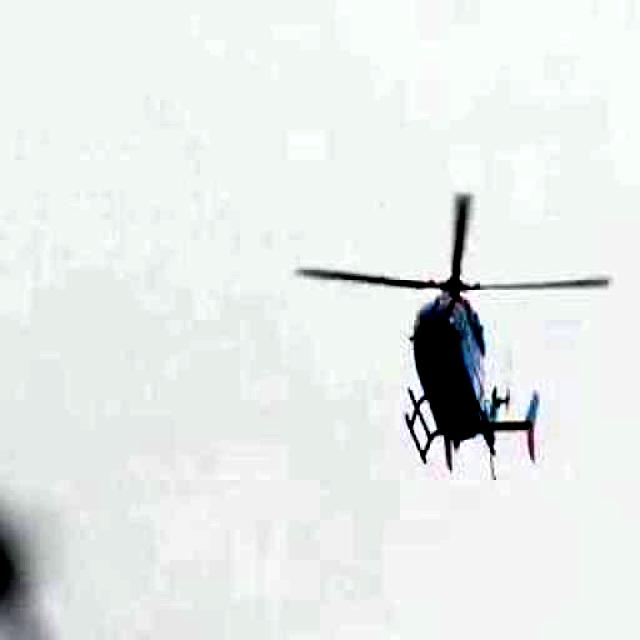drone: (301, 178, 608, 506)
